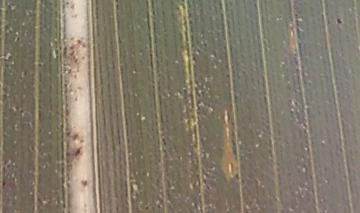tarspot: (334, 14, 345, 30), (222, 71, 230, 81)
